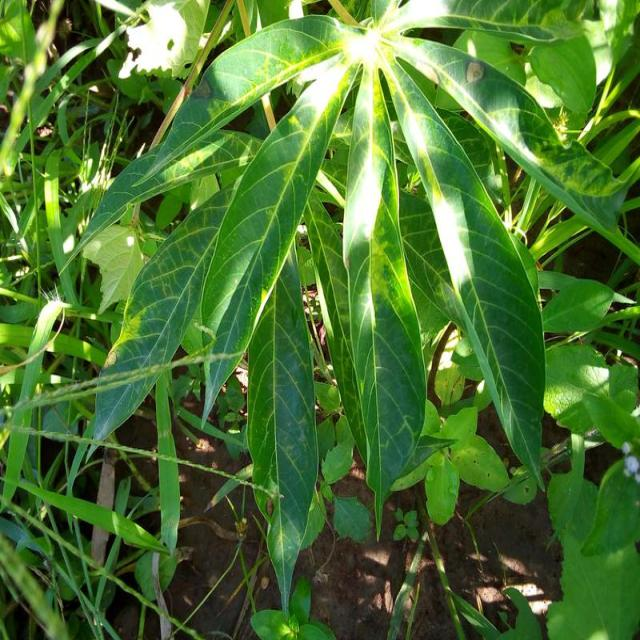cassava leaf: (77, 0, 635, 620)
